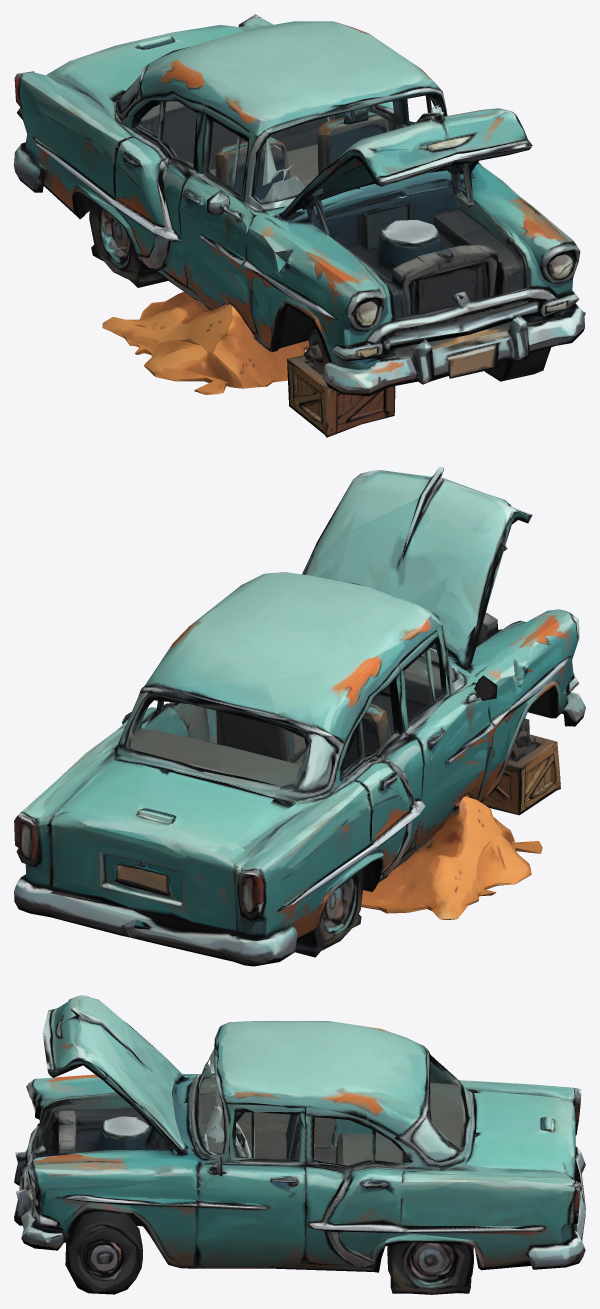
The model's file is wl_car_wreck.glb.
The picture shows the model from 3 angles, top to bottom: view 1: azimuth 30°, elevation 25°; view 2: azimuth 150°, elevation 25°; view 3: azimuth 270°, elevation 25°; orthographic projection. The views are drawn at different scales.
Visible parts, largest first — view 1: wl_car_wreck; view 2: wl_car_wreck; view 3: wl_car_wreck.
Boxes of the visible parts, bbox=[...] form: wl_car_wreck: bbox=[14, 14, 585, 437]; wl_car_wreck: bbox=[14, 466, 585, 966]; wl_car_wreck: bbox=[14, 995, 585, 1294].
Bounding box in the file's own units: 2.73 × 2.3 × 4.85.
1 material, 1 textured.
